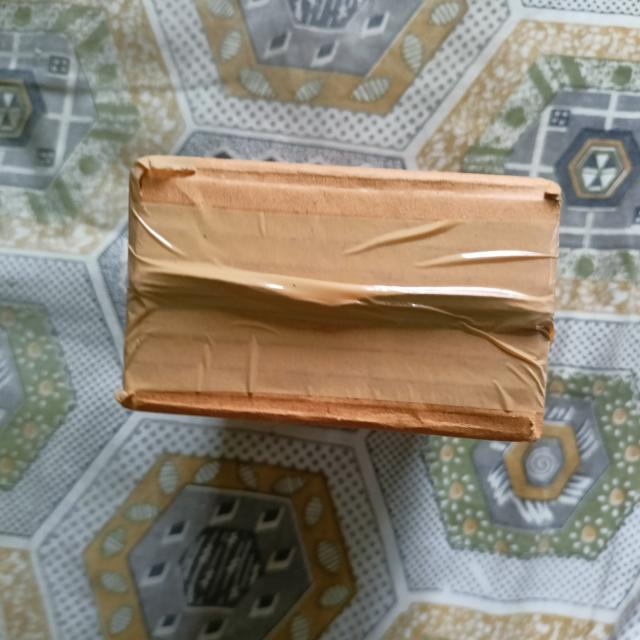box: (128, 166, 558, 435)
